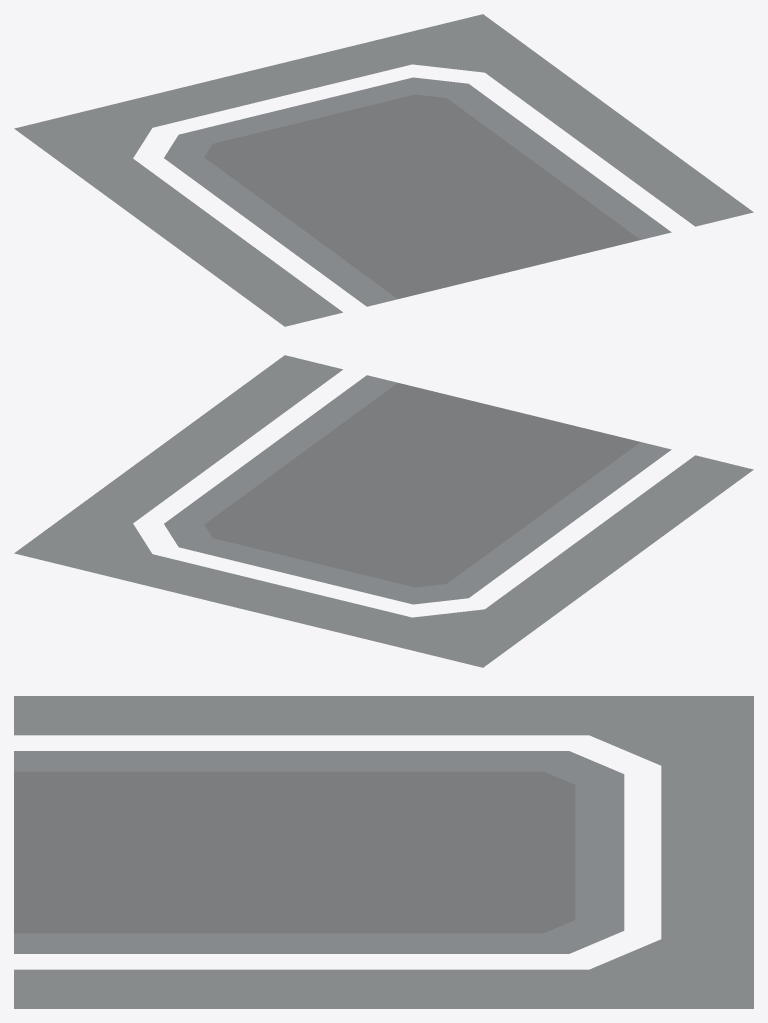
File: Ceiling_type_B_005.glb
The picture shows the model from 3 angles, top to bottom: view 1: azimuth 30°, elevation 25°; view 2: azimuth 150°, elevation 25°; view 3: azimuth 270°, elevation 25°; orthographic projection. The views are drawn at different scales.
Visible parts, largest first — view 1: Ceiling_type_B_005; view 2: Ceiling_type_B_005; view 3: Ceiling_type_B_005.
Boxes of the visible parts, box(x1,y1,x2,y2) form: Ceiling_type_B_005: box(14, 14, 753, 326); Ceiling_type_B_005: box(14, 355, 753, 667); Ceiling_type_B_005: box(14, 696, 753, 1008).
Bounding box in the file's own units: 4 × 0.0455 × 4.
Materials: 2 (2 with a texture image).
